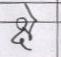e_matra: (24, 4, 38, 20)
